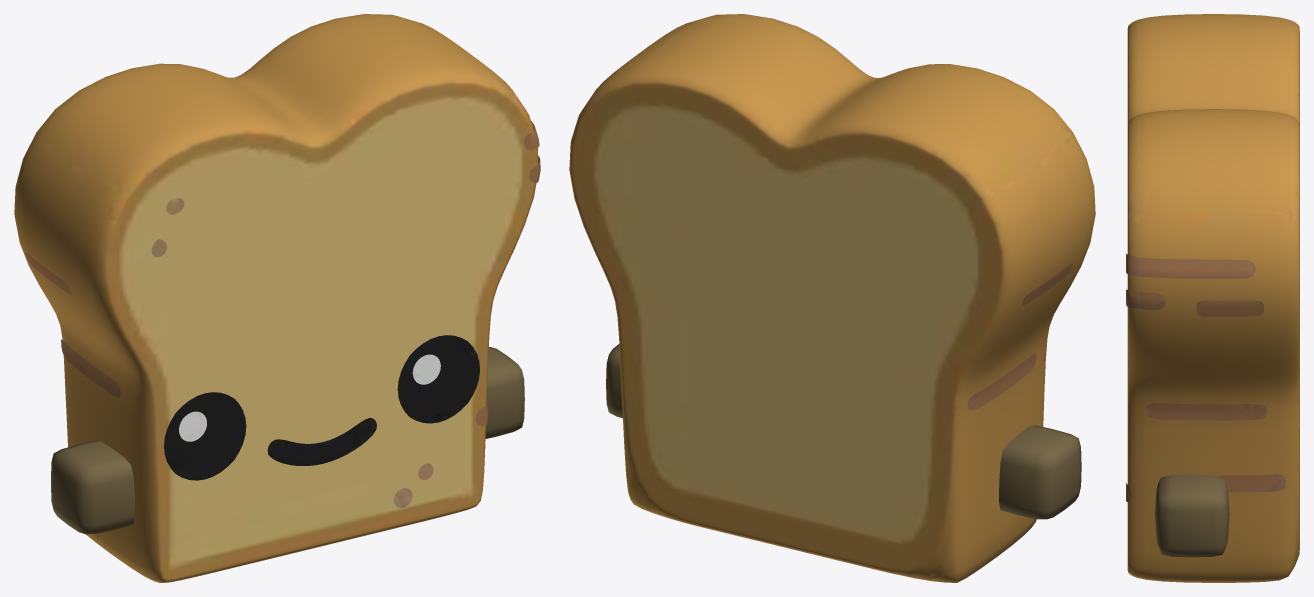
File: bread.glb
The picture shows the model from 3 angles, left to right: view 1: azimuth 30°, elevation 25°; view 2: azimuth 150°, elevation 25°; view 3: azimuth 270°, elevation 25°; orthographic projection. The views are drawn at different scales.
Visible parts, largest first — view 1: body, face_eyes, hand_L, hand_R, face_mouth; view 2: body, hand_L, hand_R; view 3: body, hand_R.
Boxes of the visible parts, x1=… form: body: x1=14, y1=14, x2=540, y2=582; face_eyes: x1=164, y1=335, x2=479, y2=480; hand_L: x1=51, y1=440, x2=134, y2=534; hand_R: x1=485, y1=347, x2=524, y2=438; face_mouth: x1=267, y1=417, x2=376, y2=465; body: x1=569, y1=14, x2=1095, y2=582; hand_L: x1=999, y1=425, x2=1081, y2=519; hand_R: x1=606, y1=344, x2=622, y2=418; body: x1=1126, y1=14, x2=1299, y2=582; hand_R: x1=1155, y1=474, x2=1229, y2=557.
Bounding box in the file's own units: 1.04 × 1 × 0.3657.
3 materials, 1 textured.
